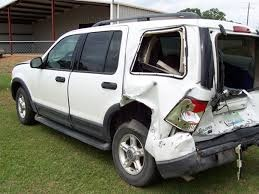Broken-glass: (168, 98, 208, 131)
Smashed: (130, 24, 259, 177)
